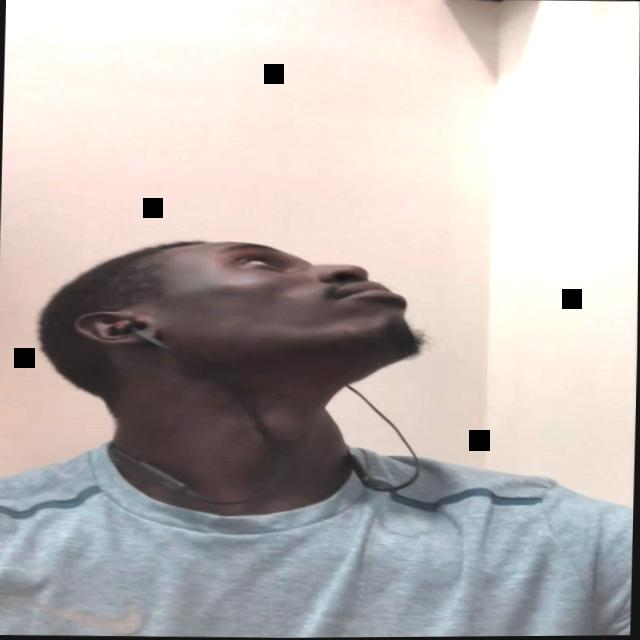NO-Mask: (121, 239, 428, 386)
